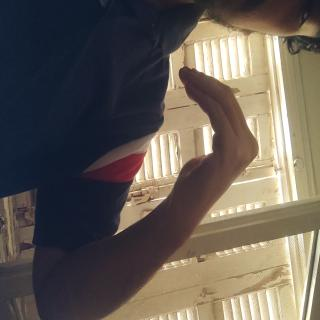HAA: (47, 75, 172, 198)
